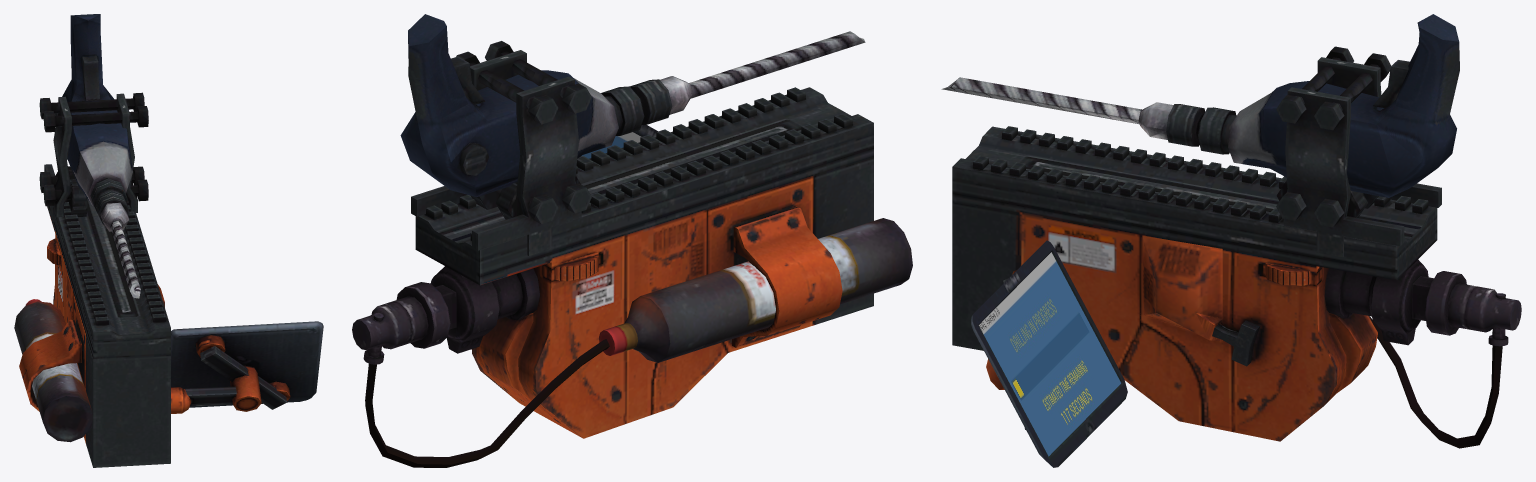
File: drill.obj
3 renders of one model, left to right at view 1: azimuth 30°, elevation 25°; view 2: azimuth 150°, elevation 25°; view 3: azimuth 270°, elevation 25°, orthographic. The views are drawn at different scales.
Visible parts, largest first — view 1: Small_Drill_1_drill_small_df.tga.001; view 2: Small_Drill_1_drill_small_df.tga.001; view 3: Small_Drill_1_drill_small_df.tga.001, Small_Drill_0_Screen.tga.001.
Boxes of the visible parts, x1,y1,x2,y2 form: Small_Drill_1_drill_small_df.tga.001: [14, 14, 323, 467]; Small_Drill_1_drill_small_df.tga.001: [352, 14, 912, 467]; Small_Drill_1_drill_small_df.tga.001: [941, 14, 1521, 467]; Small_Drill_0_Screen.tga.001: [979, 252, 1120, 456].
Size of the model in its own units: 2.4 by 2.64 by 3.25.
Materials: 2 (2 with a texture image).
